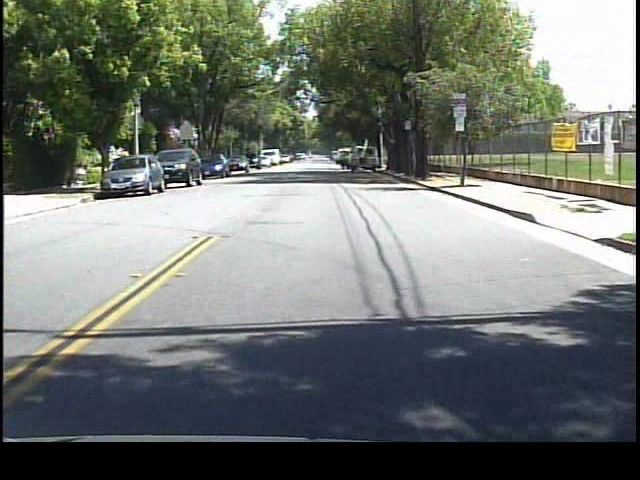person: (336, 148, 351, 173)
